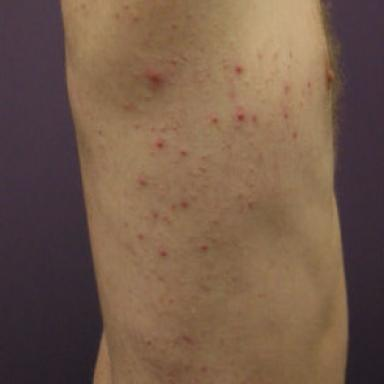acne: (148, 73, 161, 83), (138, 174, 147, 186), (237, 107, 245, 120), (235, 65, 243, 73), (180, 200, 188, 208), (156, 139, 163, 148), (211, 115, 218, 123), (159, 249, 167, 256), (251, 114, 257, 123), (200, 244, 209, 250), (131, 14, 138, 21), (284, 83, 289, 92), (180, 149, 187, 155), (172, 59, 178, 66), (248, 201, 254, 208), (163, 214, 169, 221), (137, 233, 144, 239), (283, 111, 288, 119), (122, 4, 129, 9), (171, 204, 176, 210), (293, 131, 297, 138), (172, 24, 177, 29), (187, 14, 192, 19), (307, 82, 311, 87)
